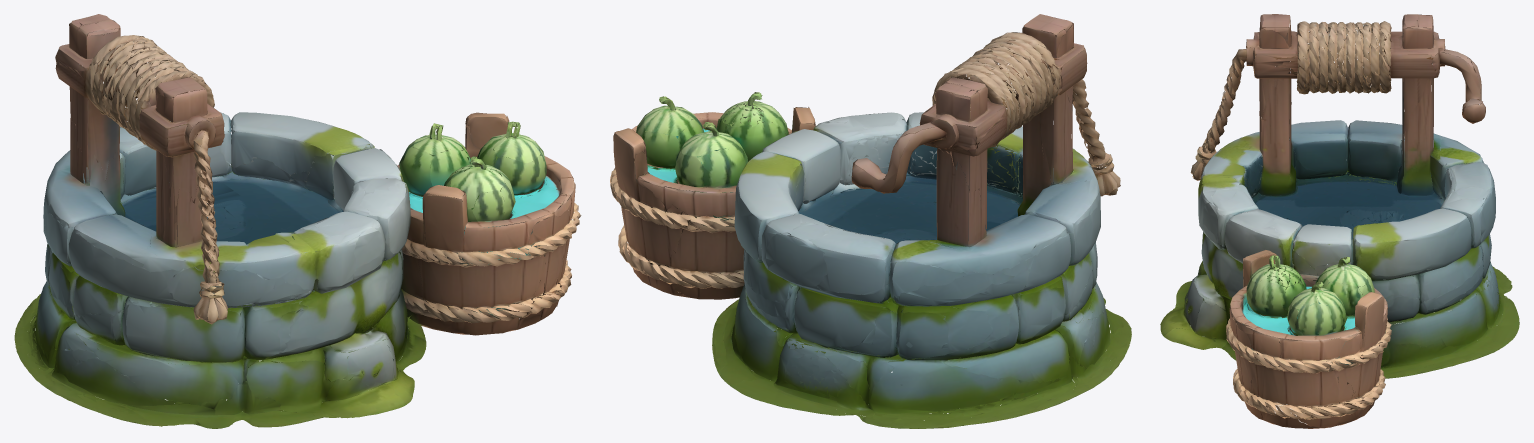
The model's file is well.glb.
3 renders of one model, left to right at view 1: azimuth 30°, elevation 25°; view 2: azimuth 150°, elevation 25°; view 3: azimuth 270°, elevation 25°, orthographic. The views are drawn at different scales.
Parts seen in each view (by area): view 1: node_0; view 2: node_0; view 3: node_0.
Part boxes in pixels (left/top/right/bottom): node_0: left=14, top=14, right=581, bottom=428; node_0: left=610, top=14, right=1131, bottom=428; node_0: left=1160, top=14, right=1519, bottom=428.
Bounding box in the file's own units: 1.04 × 0.6078 × 0.7769.
Materials: 1 (1 with a texture image).
